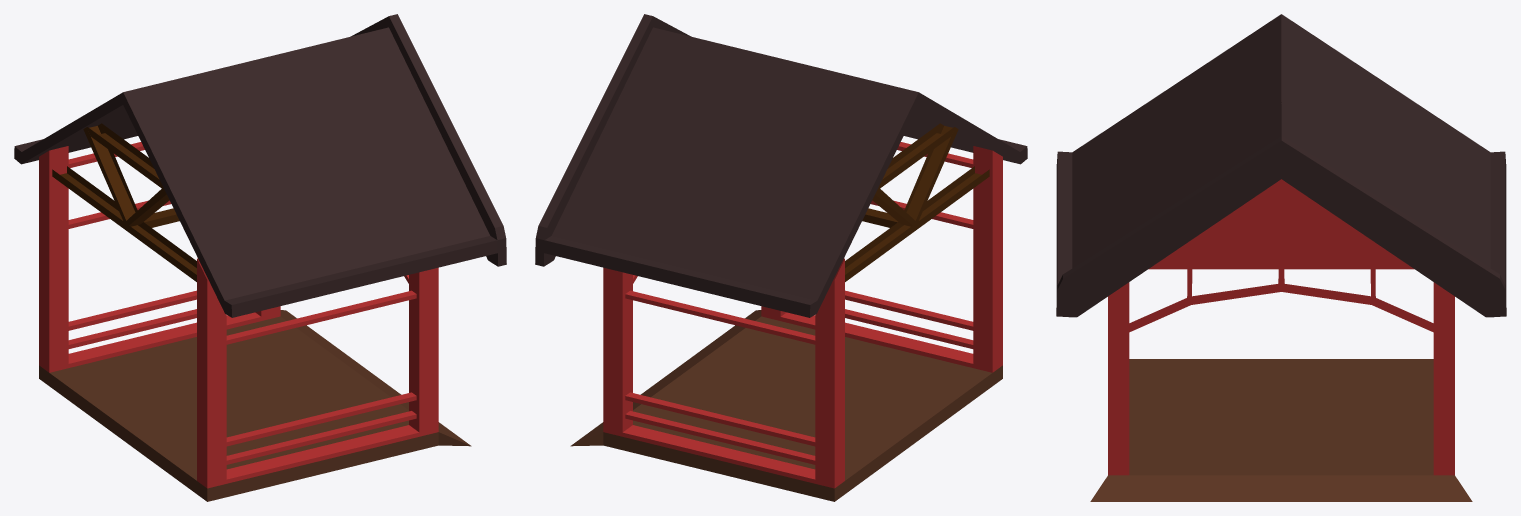
Rendered from Ponte-FIM.fbx.
3 views of the same model, side by side, from view 1: azimuth 30°, elevation 25°; view 2: azimuth 150°, elevation 25°; view 3: azimuth 270°, elevation 25° (orthographic). The views are drawn at different scales.
Visible parts, largest first — view 1: bridge exit; view 2: bridge exit; view 3: bridge exit.
Boxes of the visible parts, left/top/right/bottom form: bridge exit: left=14, top=14, right=506, bottom=501; bridge exit: left=535, top=14, right=1027, bottom=501; bridge exit: left=1056, top=14, right=1506, bottom=501.
Size of the model in its own units: 1126 by 1410 by 1551.
Materials: 1 (1 with a texture image).
